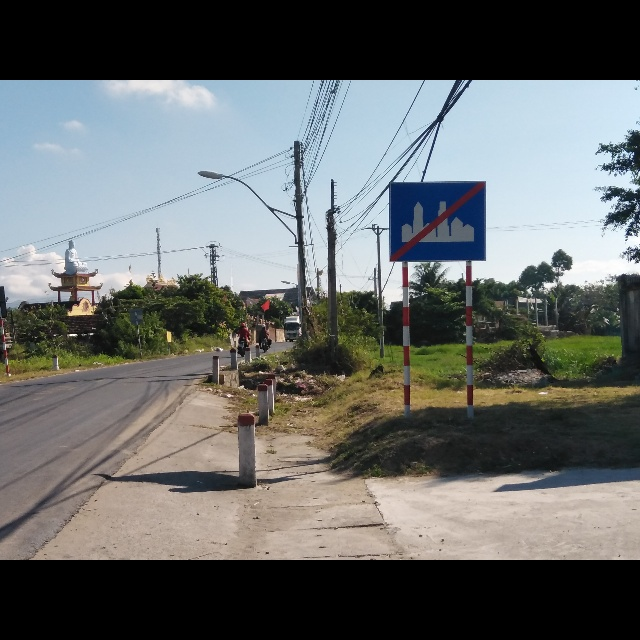Hết khu đông dân cư: (388, 180, 487, 260)
